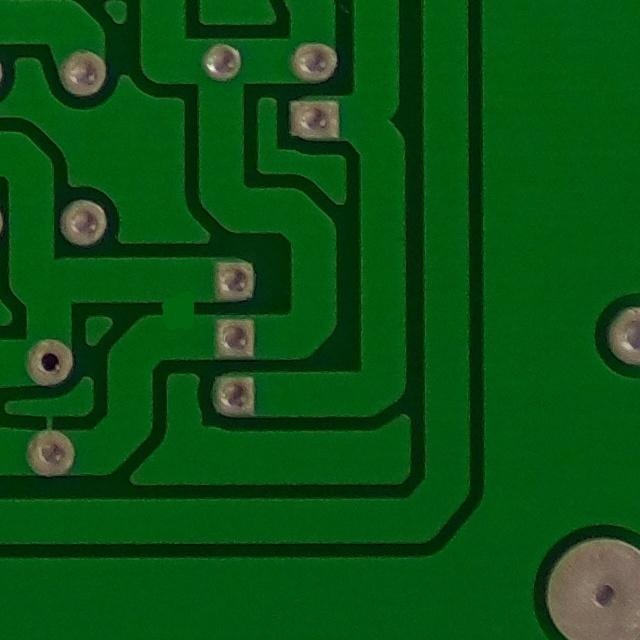short: (151, 278, 212, 343)
